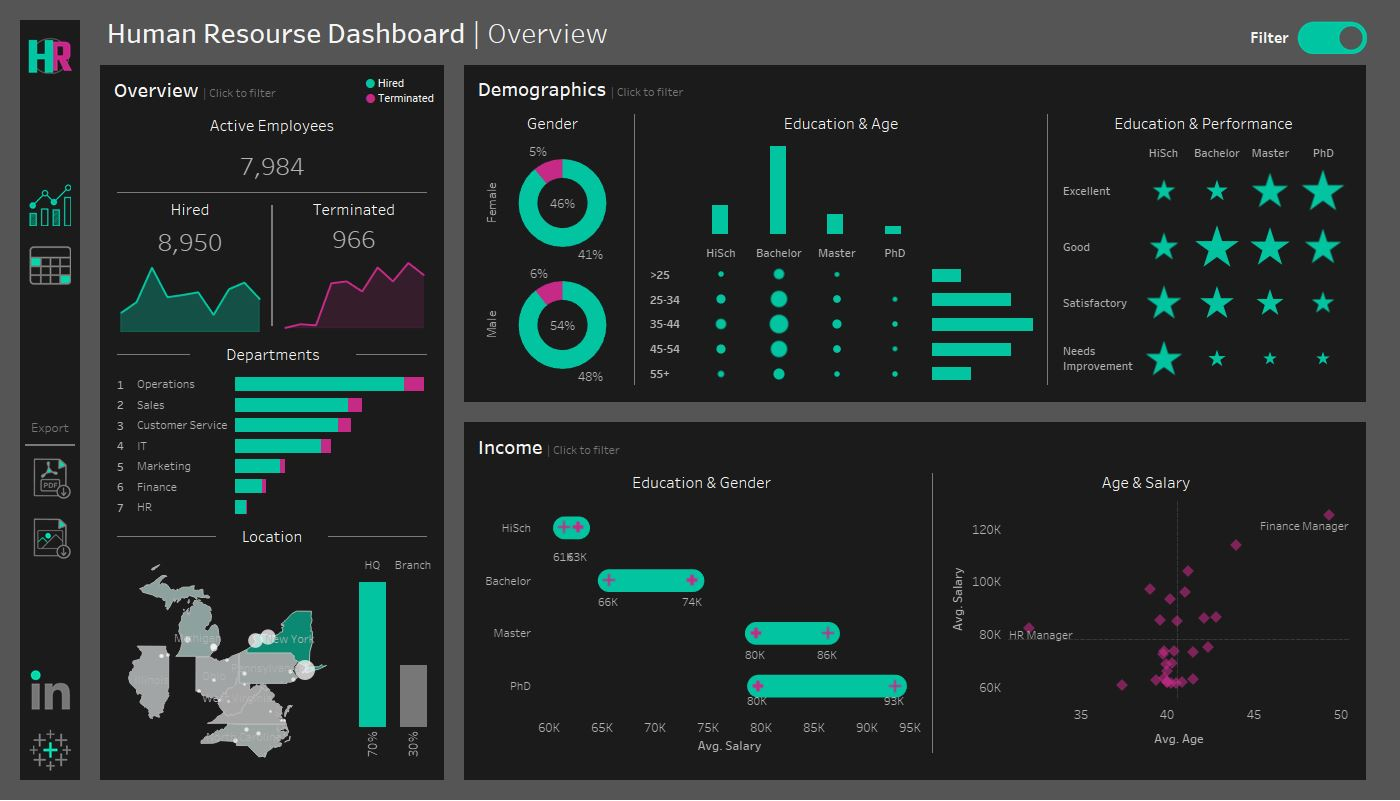

The page's visual inventory and layout, read from the dashboard file:
{"tool":"tableau","page":{"name":"HR Summary","canvas":[1400,800],"ordinal":0},"visuals":[{"type":"text","box":[102,2,683,65]},{"type":"blank","box":[785,2,583,65]},{"type":"dashboard-object","box":[1285,9,73,50]},{"type":"filter","title":"Gender vs Income","param":"[federated.1wezj2w1xocmcf191hxml1wa3nv1].[none:Gender:nk]","box":[627,10,150.2,49]},{"type":"filter","title":"Gender vs Income","param":"[federated.1wezj2w1xocmcf191hxml1wa3nv1].[none:Calculation_1546423587056726022:n","box":[777.3,10,150.2,49]},{"type":"filter","title":"Gender vs Income","param":"[federated.1wezj2w1xocmcf191hxml1wa3nv1].[none:Calculation_1546423587419213837:n","box":[927.5,10,150.2,49]},{"type":"filter","title":"Gender vs Income","param":"[federated.1wezj2w1xocmcf191hxml1wa3nv1].[yr:Hiredate:ok]","box":[1077.7,10,150.3,49]},{"type":"text","box":[1224,19,63,30]},{"type":"image","param":"Image/Logo.png","box":[22,22,60,72]},{"type":"text","box":[109,74,330,33]},{"type":"text","box":[473,74,888,32]},{"type":"text","box":[363,75,78,34]},{"type":"blank","box":[22,94,60,83]},{"type":"blank","box":[636,106,1,289.5]},{"type":"blank","box":[1049,106,1,289.5]},{"type":"text","box":[109,107,330,33]},{"type":"text","box":[478,111,153,29]},{"type":"text","box":[642,111,402,29]},{"type":"text","box":[1055,111,301,29]},{"type":"worksheet","title":"BAN Active","mark":"Automatic","box":[109,140,330,52]},{"type":"worksheet","title":"Gender","mark":"Pie","rows":["Gender"],"cols":["Calculation_1546423587059965960","Calculation_1546423587059965960"],"box":[478,140,153,250.5]},{"type":"worksheet","title":"Education","mark":"Bar","rows":["Calculation_1546423587048726528"],"cols":["Education Level"],"box":[642,140,402,100]},{"type":"worksheet","title":"Education vs Performance","mark":"Shape","rows":["Performance Rating"],"cols":["Education Level"],"box":[1055,140,301,250.5]},{"type":"dashboard-object","box":[22,177,60,60]},{"type":"blank","box":[109,192,330,1]},{"type":"text","box":[111,195,162,29]},{"type":"blank","box":[273,195,2,141]},{"type":"text","box":[275,195,162,29]},{"type":"worksheet","title":"BAN Hired","mark":"Automatic","box":[111,224,162,35]},{"type":"worksheet","title":"BAN Terminated","mark":"Automatic","box":[275,224,162,29.9]},{"type":"dashboard-object","box":[22,237,60,60]},{"type":"worksheet","title":"Age vs Education","mark":"Circle","rows":["Calculation_1546423587062411276"],"cols":["Education Level"],"box":[642,240,288,150.5]},{"type":"worksheet","title":"Age Group","mark":"Bar","rows":["Calculation_1546423587062411276"],"cols":["Calculation_1546423587048726528"],"box":[930,240,114,150.5]},{"type":"worksheet","title":"Terminate by Year","mark":"Automatic","rows":["Calculation_1546423587048808449","Calculation_1546423587048808449"],"cols":["Termdate"],"box":[275,253.9,162,82.1]},{"type":"worksheet","title":"Hired by Year","mark":"Automatic","rows":["Calculation_1546423587048726528","Calculation_1546423587048726528"],"cols":["Hiredate"],"box":[111,259,162,77]},{"type":"blank","box":[22,297,60,481]},{"type":"blank","box":[109,338,88,32]},{"type":"text","box":[197,338,156,32]},{"type":"blank","box":[353,338,86,32]},{"type":"worksheet","title":"Departments","mark":"Bar","rows":["Calculation_1546423587056054277","Department"],"cols":["Calculation_1546423587048726528"],"box":[109,370,330,151]},{"type":"text","box":[473,429.5,888,34]},{"type":"blank","box":[934,463.5,1,300]},{"type":"text","box":[478,468.5,451,29]},{"type":"text","box":[940,468.5,416,29]},{"type":"worksheet","title":"Gender vs Income","mark":"Circle","rows":["Education Level"],"cols":["Salary","Salary"],"box":[478,497.5,451,261]},{"type":"worksheet","title":"Age vs Salary","mark":"Shape","rows":["Salary"],"cols":["Calculation_1546423587061940235"],"box":[940,497.5,416,261]},{"type":"blank","box":[109,521,114,30]},{"type":"text","box":[223,521,102,30]},{"type":"blank","box":[325,521,114,30]},{"type":"worksheet","title":"Map States","mark":"Multipolygon","box":[109,551,241,220]},{"type":"worksheet","title":"Locations","mark":"Bar","rows":["Calculation_1546423587048726528"],"cols":["Calculation_1546423587056726022","Calculation1"],"box":[350,551,89,220]}]}

Visuals, with their boxes in screenshot pixels (x1, y1, x2, y2), scaled from the page's 1400x800 canvas onto the 1400x801 screenshot:
text: l=102, t=2, r=785, b=67
blank: l=785, t=2, r=1368, b=67
dashboard-object: l=1285, t=9, r=1358, b=59
"Gender vs Income" filter: l=627, t=10, r=777, b=59
"Gender vs Income" filter: l=777, t=10, r=928, b=59
"Gender vs Income" filter: l=928, t=10, r=1078, b=59
"Gender vs Income" filter: l=1078, t=10, r=1228, b=59
text: l=1224, t=19, r=1287, b=49
image: l=22, t=22, r=82, b=94
text: l=109, t=74, r=439, b=107
text: l=473, t=74, r=1361, b=106
text: l=363, t=75, r=441, b=109
blank: l=22, t=94, r=82, b=177
blank: l=636, t=106, r=637, b=396
blank: l=1049, t=106, r=1050, b=396
text: l=109, t=107, r=439, b=140
text: l=478, t=111, r=631, b=140
text: l=642, t=111, r=1044, b=140
text: l=1055, t=111, r=1356, b=140
"BAN Active" worksheet: l=109, t=140, r=439, b=192
"Gender" worksheet (Pie marks): l=478, t=140, r=631, b=391
"Education" worksheet (Bar marks): l=642, t=140, r=1044, b=240
"Education vs Performance" worksheet (Shape marks): l=1055, t=140, r=1356, b=391
dashboard-object: l=22, t=177, r=82, b=237
blank: l=109, t=192, r=439, b=193
text: l=111, t=195, r=273, b=224
blank: l=273, t=195, r=275, b=336
text: l=275, t=195, r=437, b=224
"BAN Hired" worksheet: l=111, t=224, r=273, b=259
"BAN Terminated" worksheet: l=275, t=224, r=437, b=254
dashboard-object: l=22, t=237, r=82, b=297
"Age vs Education" worksheet (Circle marks): l=642, t=240, r=930, b=391
"Age Group" worksheet (Bar marks): l=930, t=240, r=1044, b=391
"Terminate by Year" worksheet: l=275, t=254, r=437, b=336
"Hired by Year" worksheet: l=111, t=259, r=273, b=336
blank: l=22, t=297, r=82, b=779
blank: l=109, t=338, r=197, b=370
text: l=197, t=338, r=353, b=370
blank: l=353, t=338, r=439, b=370
"Departments" worksheet (Bar marks): l=109, t=370, r=439, b=522
text: l=473, t=430, r=1361, b=464
blank: l=934, t=464, r=935, b=764
text: l=478, t=469, r=929, b=498
text: l=940, t=469, r=1356, b=498
"Gender vs Income" worksheet (Circle marks): l=478, t=498, r=929, b=759
"Age vs Salary" worksheet (Shape marks): l=940, t=498, r=1356, b=759
blank: l=109, t=522, r=223, b=552
text: l=223, t=522, r=325, b=552
blank: l=325, t=522, r=439, b=552
"Map States" worksheet (Multipolygon marks): l=109, t=552, r=350, b=772
"Locations" worksheet (Bar marks): l=350, t=552, r=439, b=772
